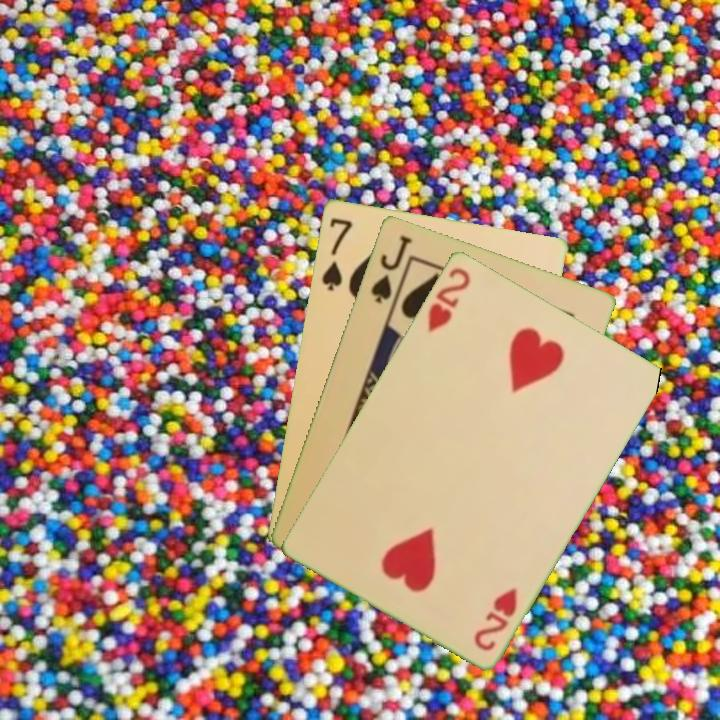2h: (424, 263, 473, 335), (470, 584, 520, 654)
7s: (318, 213, 355, 293)
Js: (367, 231, 415, 306)
